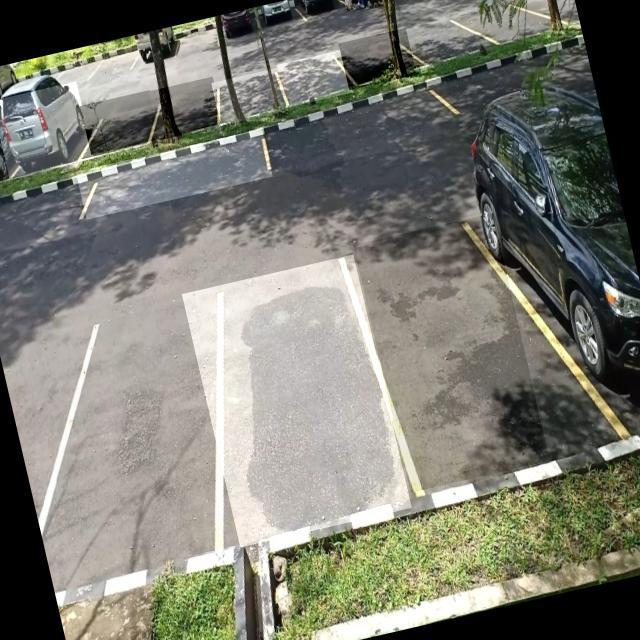empty: (182, 254, 412, 547), (21, 288, 240, 582), (354, 210, 558, 492), (259, 76, 458, 177), (76, 128, 274, 219), (338, 26, 421, 90), (80, 90, 161, 154), (149, 76, 224, 139), (211, 66, 288, 126), (276, 49, 352, 107), (406, 12, 481, 65)
occupied: (475, 108, 640, 452), (0, 81, 93, 177)
